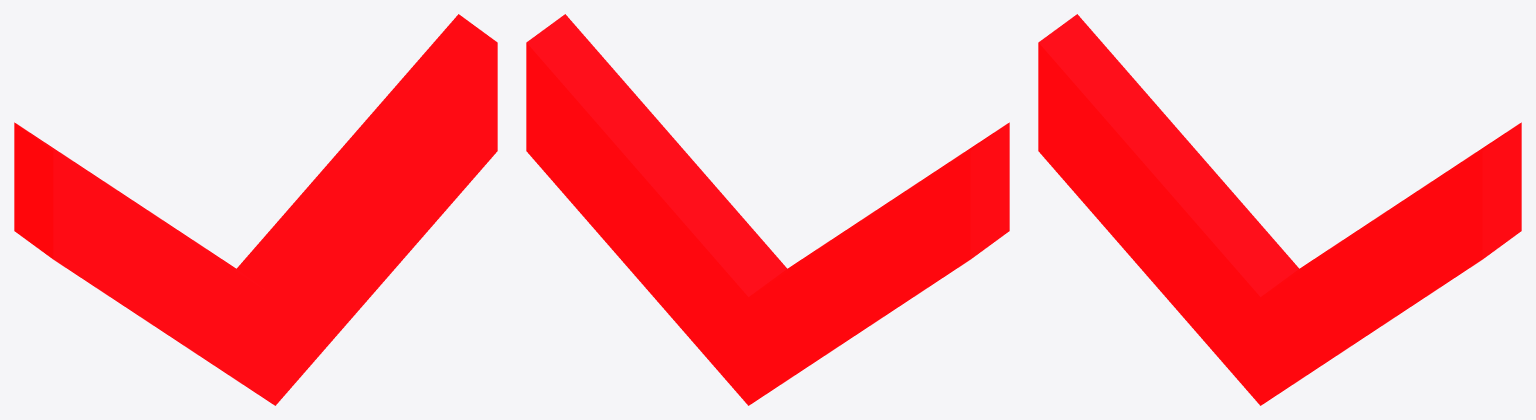
The picture shows the model from 3 angles, left to right: view 1: azimuth 30°, elevation 25°; view 2: azimuth 150°, elevation 25°; view 3: azimuth 330°, elevation 25°; orthographic projection.
Parts seen in each view (by area): view 1: Cube.008_Baked; view 2: Cube.008_Baked; view 3: Cube.008_Baked.
Part boxes in pixels (x1,y1,x2,y2): Cube.008_Baked: [14, 14, 497, 405]; Cube.008_Baked: [526, 14, 1009, 405]; Cube.008_Baked: [1038, 14, 1521, 405].
Bounding box in the file's own units: 88.05 × 58.6 × 13.36.
Materials: 1 (1 with a texture image).
